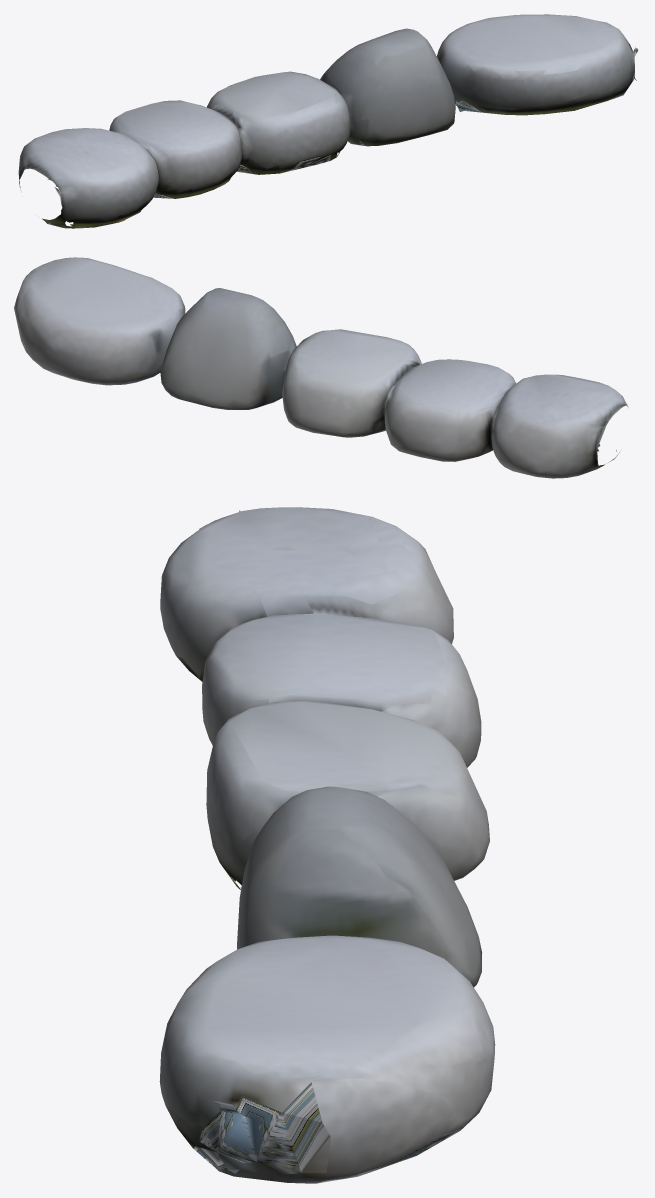
Rendered from pond_edge_stones_2m_b.glb.
3 views of the same model, one above another, from view 1: azimuth 30°, elevation 25°; view 2: azimuth 150°, elevation 25°; view 3: azimuth 270°, elevation 25° (orthographic). The views are drawn at different scales.
Parts seen in each view (by area): view 1: node_0; view 2: node_0; view 3: node_0.
Boxes of the visible parts, x1,y1,x2,y2 form: node_0: (18,14,638,228); node_0: (14,257,628,478); node_0: (159,507,495,1183).
Bounding box in the file's own units: 2 × 0.2843 × 0.4903.
1 material, 1 textured.
